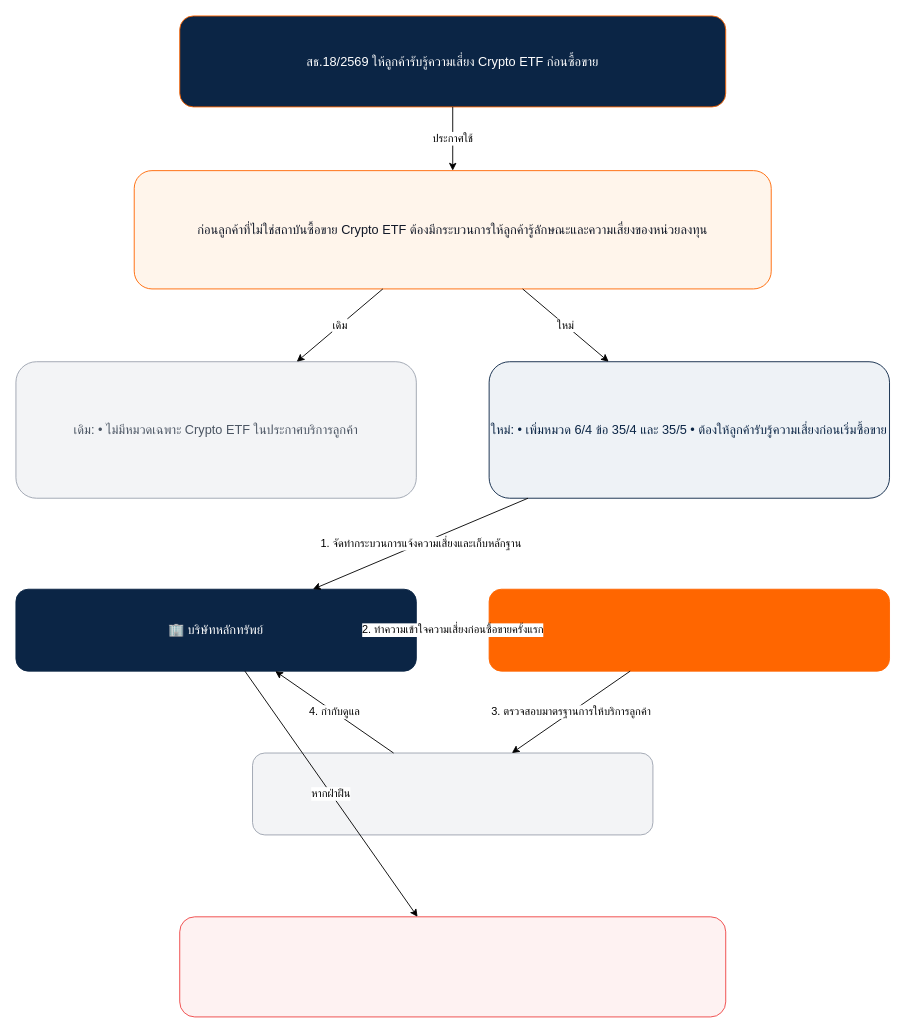
Some shapes in this 905 by 1033 pixel diagram are drawn without their labels. The centre of each missing label's shape, as x and y in pixels:
"⚠️ ไม่มีโทษในตัวประกาศ ไม่มีกระบวนการขัดมาตรฐานผู้ประกอบธุรกิจ" belongs at (452,966).
"🏛️ ก.ล.ต." belongs at (452,793).
"👤 ลูกค้ารายย่อย" belongs at (689,629).
